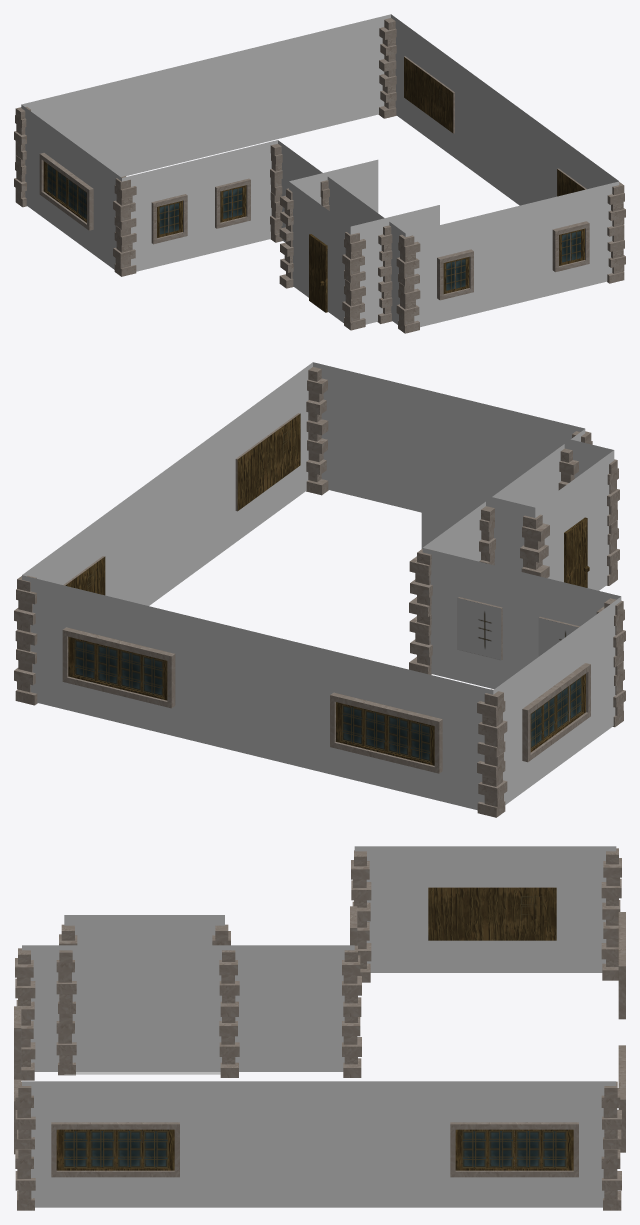
File: COLLAPSEDCOBBLEWALL.fbx
3 renders of one model, top to bottom at view 1: azimuth 30°, elevation 25°; view 2: azimuth 150°, elevation 25°; view 3: azimuth 270°, elevation 25°, orthographic. The views are drawn at different scales.
Parts seen in each view (by area): view 1: Object1432; view 2: Object1432; view 3: Object1432.
Boxes of the visible parts, x1=… form: Object1432: x1=14, y1=14, x2=625, y2=333; Object1432: x1=14, y1=362, x2=625, y2=817; Object1432: x1=14, y1=846, x2=625, y2=1210.
Bounding box in the file's own units: 90.27 × 23.32 × 96.96.
